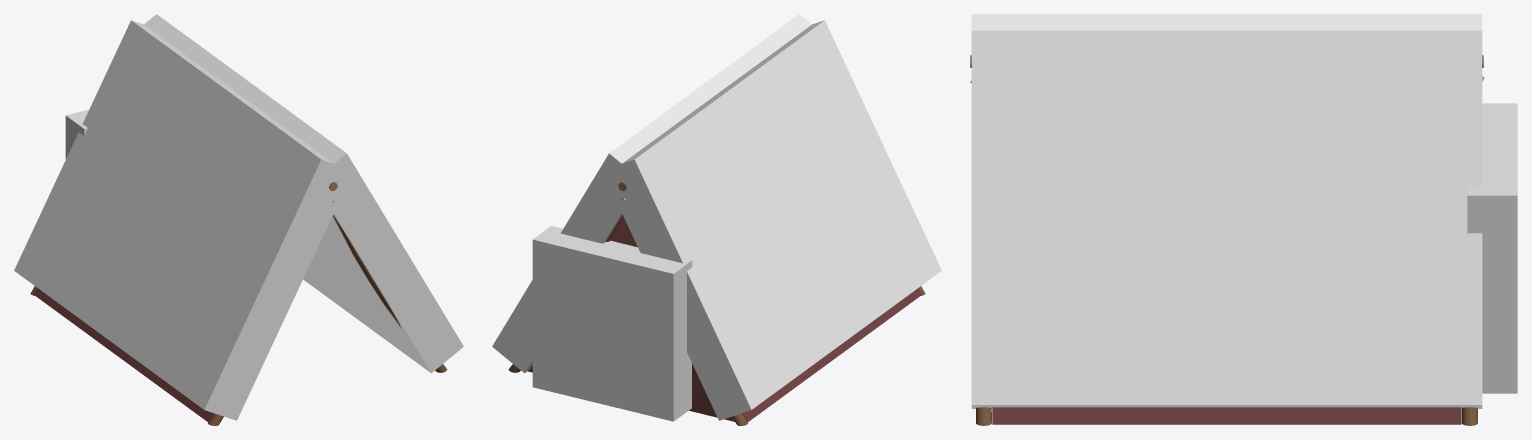
The model's file is tent_1.glb.
3 renders of one model, left to right at view 1: azimuth 30°, elevation 25°; view 2: azimuth 150°, elevation 25°; view 3: azimuth 270°, elevation 25°, orthographic. The views are drawn at different scales.
Visible parts, largest first — view 1: Cube.001, Cube, Tent_01_LOD0, Cube.002; view 2: Cube.001, Cube.002, Cube, Tent_01_LOD0; view 3: Cube, Cube.002, Tent_01_LOD0, Cube.001.
Boxes of the visible parts, left/top/right/bottom form: Cube.001: left=14, top=20, right=353, bottom=420; Cube: left=144, top=14, right=463, bottom=373; Tent_01_LOD0: left=30, top=182, right=447, bottom=425; Cube.002: left=65, top=109, right=88, bottom=159; Cube.001: left=602, top=20, right=941, bottom=420; Cube.002: left=532, top=226, right=692, bottom=421; Cube: left=492, top=14, right=811, bottom=373; Tent_01_LOD0: left=508, top=182, right=925, bottom=425; Cube: left=971, top=30, right=1482, bottom=408; Cube.002: left=1467, top=103, right=1517, bottom=393; Tent_01_LOD0: left=970, top=55, right=1484, bottom=425; Cube.001: left=971, top=14, right=1482, bottom=30.
Size of the model in its own units: 2.29 by 2.06 by 3.11.
1 material, 1 textured.
